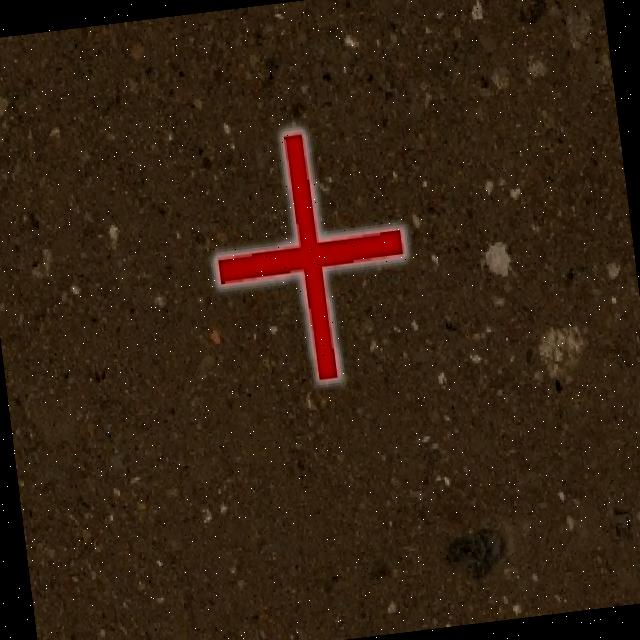x_marker: (200, 120, 418, 389)
